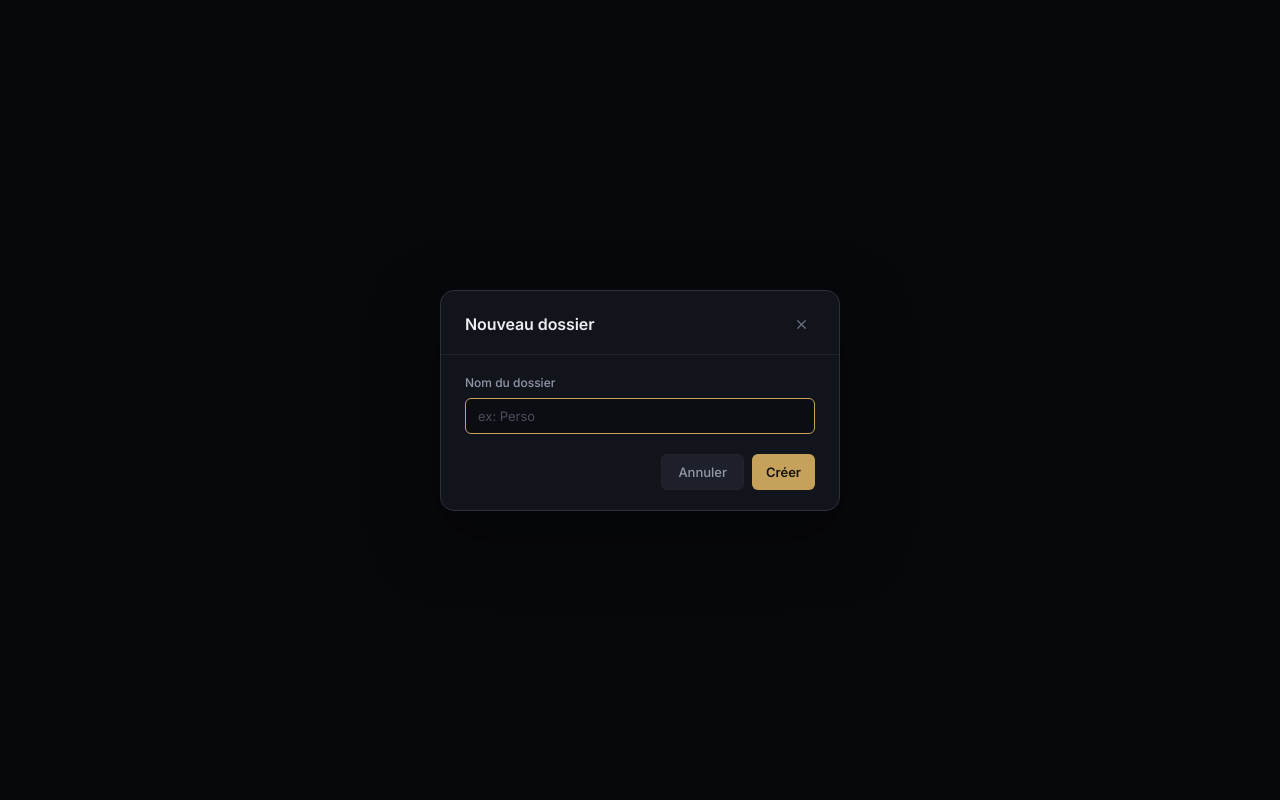
Test case: FolderModal › refuses a name already taken and does not save
Type "perso" into the field labelled "Nom du dossier" at (640, 416), box [465, 398, 815, 434]
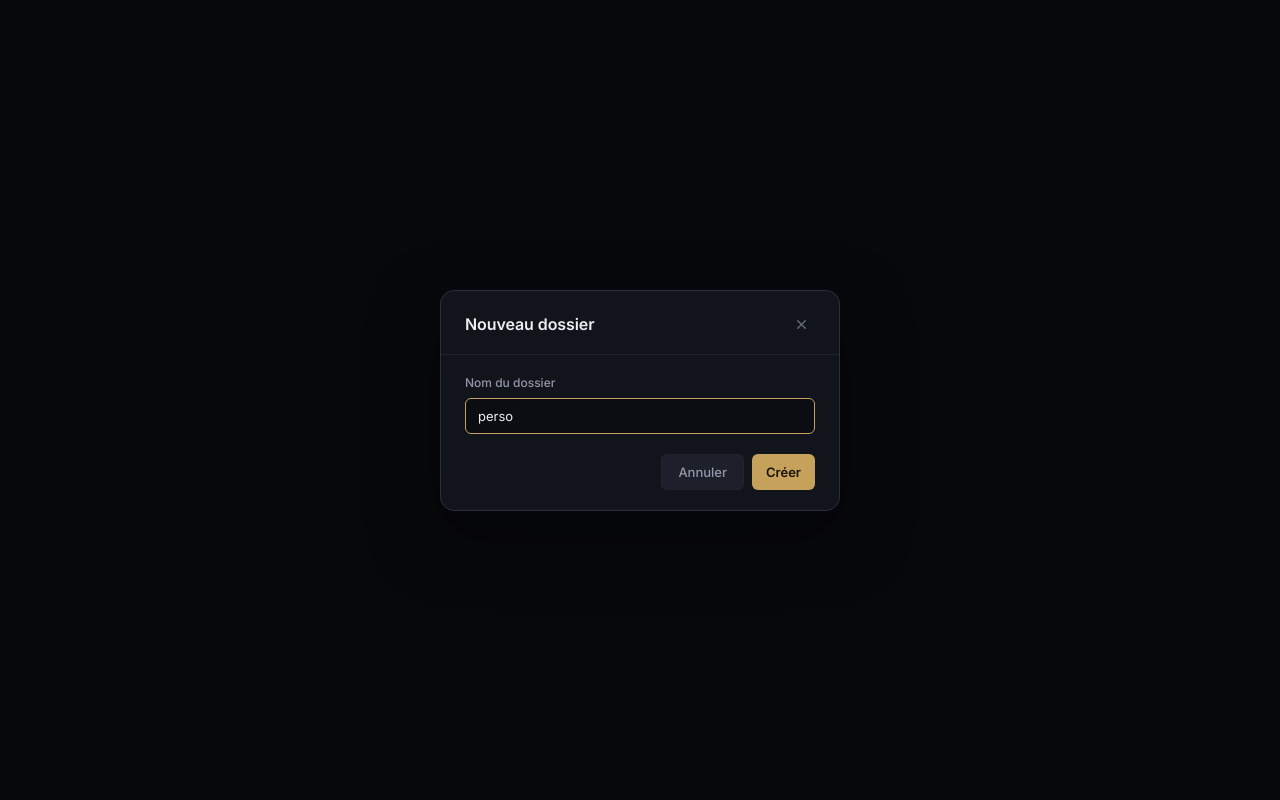
Click the button "Créer" at (784, 472), box [752, 454, 815, 490]
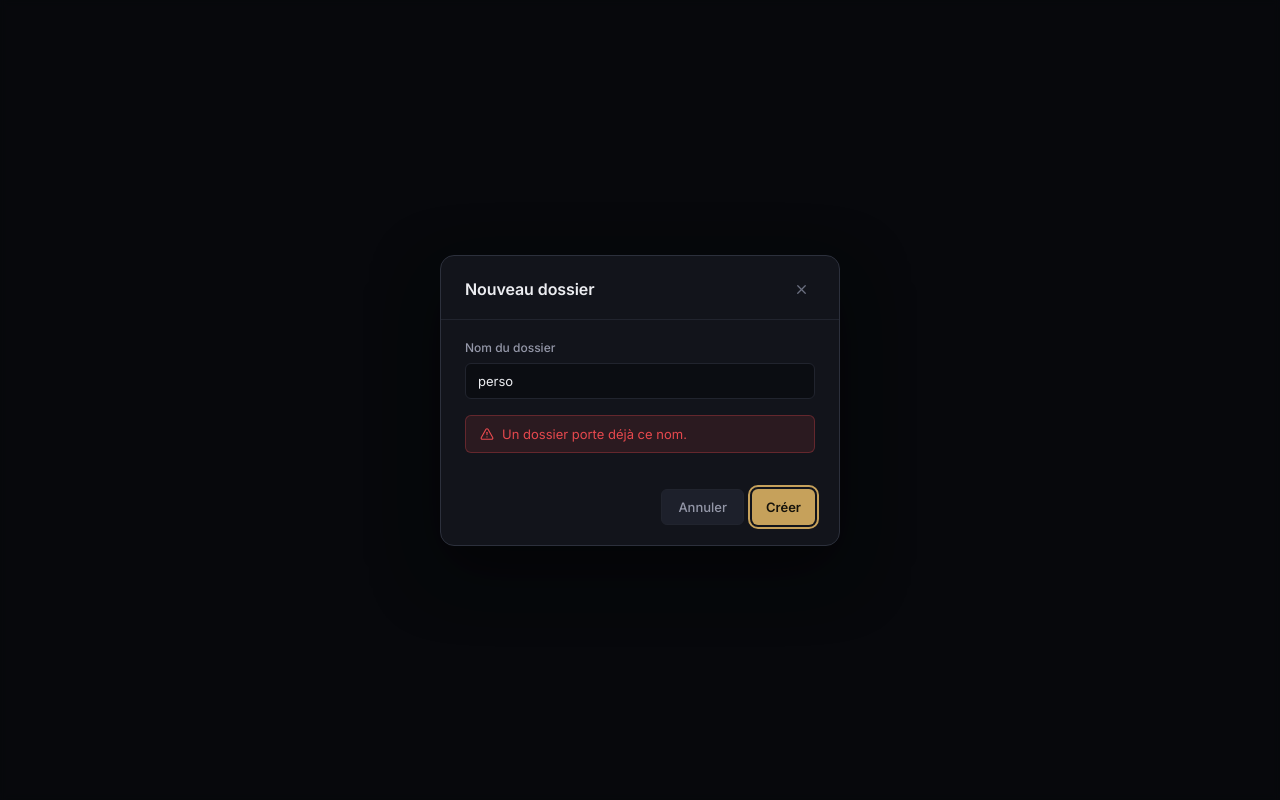
Check: the message reads "Un dossier porte déjà ce nom.", box [502, 426, 687, 442]
